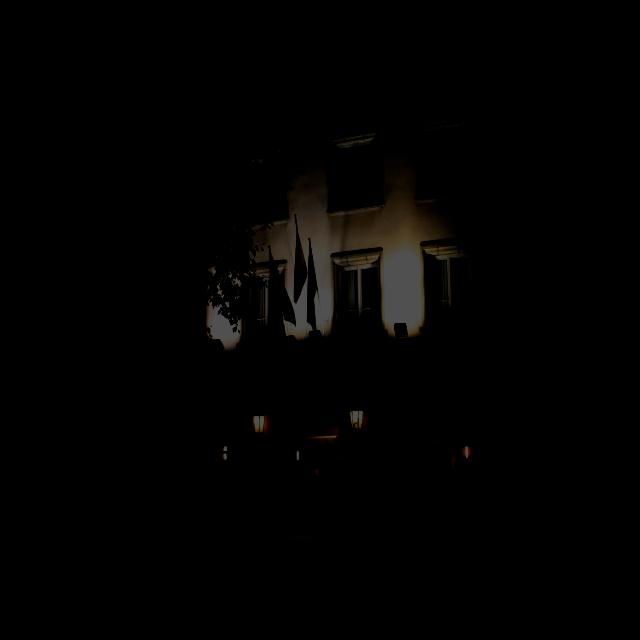Motorbike: (529, 488, 608, 574), (142, 498, 192, 567), (398, 506, 447, 576), (204, 496, 238, 573), (312, 503, 348, 569), (360, 502, 380, 572)
